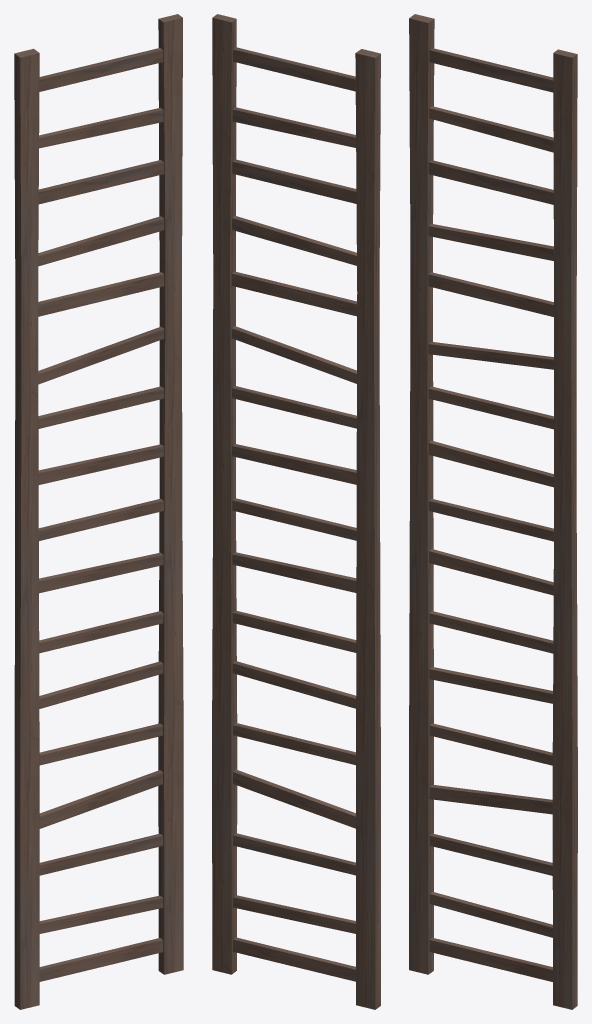
The model's file is ladder.fbx.
3 renders of one model, left to right at view 1: azimuth 30°, elevation 25°; view 2: azimuth 150°, elevation 25°; view 3: azimuth 330°, elevation 25°, orthographic.
Visible parts, largest first — view 1: Mondstadt_Windmill.002; view 2: Mondstadt_Windmill.002; view 3: Mondstadt_Windmill.002.
Boxes of the visible parts, x1=… form: Mondstadt_Windmill.002: x1=14, y1=14, x2=183, y2=1009; Mondstadt_Windmill.002: x1=212, y1=14, x2=380, y2=1009; Mondstadt_Windmill.002: x1=409, y1=14, x2=577, y2=1009.
Bounding box in the file's own units: 133 × 742 × 8.59.
